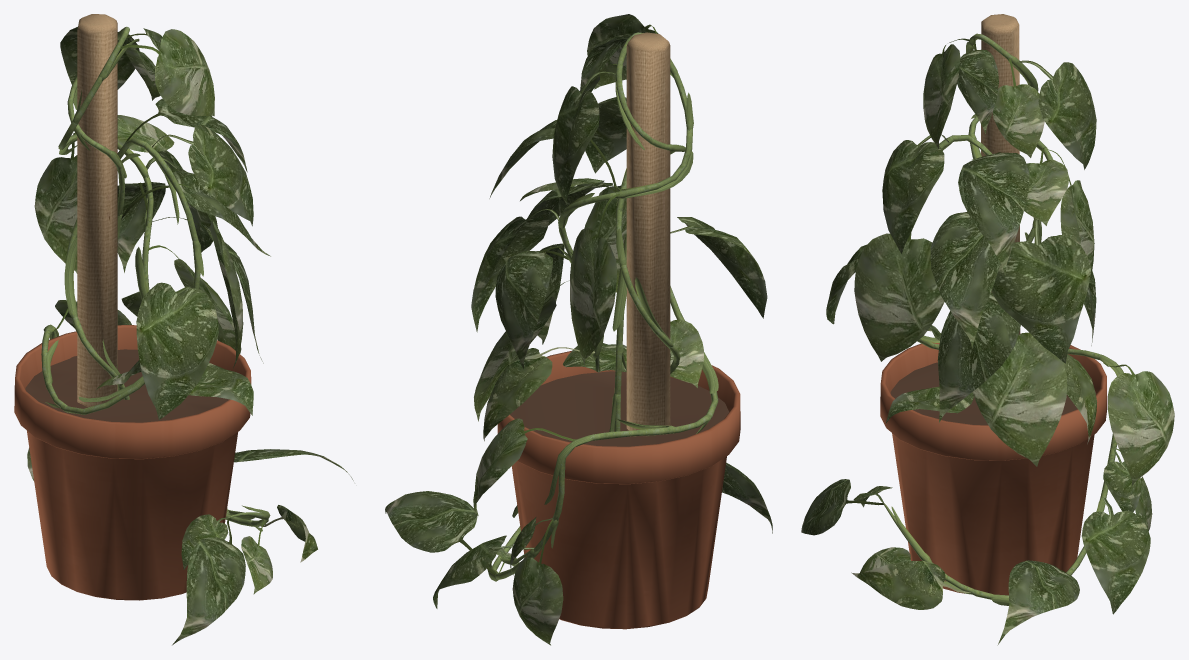
The model's file is plant-pothos-hanging.glb.
3 views of the same model, side by side, from view 1: azimuth 30°, elevation 25°; view 2: azimuth 150°, elevation 25°; view 3: azimuth 270°, elevation 25° (orthographic). The views are drawn at different scales.
Parts seen in each view (by area): view 1: epipremnum pinnatum; view 2: epipremnum pinnatum; view 3: epipremnum pinnatum.
Part boxes in pixels (x1,y1,x2,y2): epipremnum pinnatum: [14, 14, 353, 645]; epipremnum pinnatum: [385, 14, 772, 645]; epipremnum pinnatum: [801, 14, 1174, 645].
Size of the model in its own units: 0.2201 by 0.3523 by 0.2265.
Materials: 5 (5 with a texture image).
